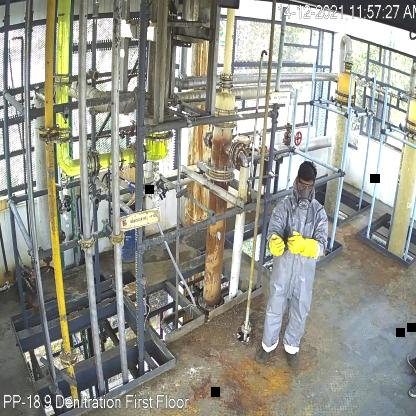goggles: (296, 181, 317, 190)
mask: (295, 188, 312, 210)
